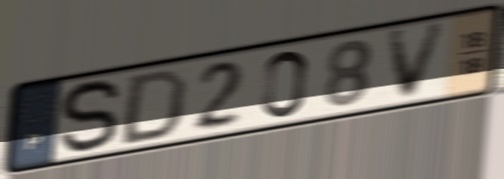0: (260, 49, 309, 120)
2: (190, 58, 248, 135)
8: (323, 37, 376, 109)
D: (115, 66, 191, 148)
S: (58, 76, 124, 158)
V: (384, 17, 453, 103)
